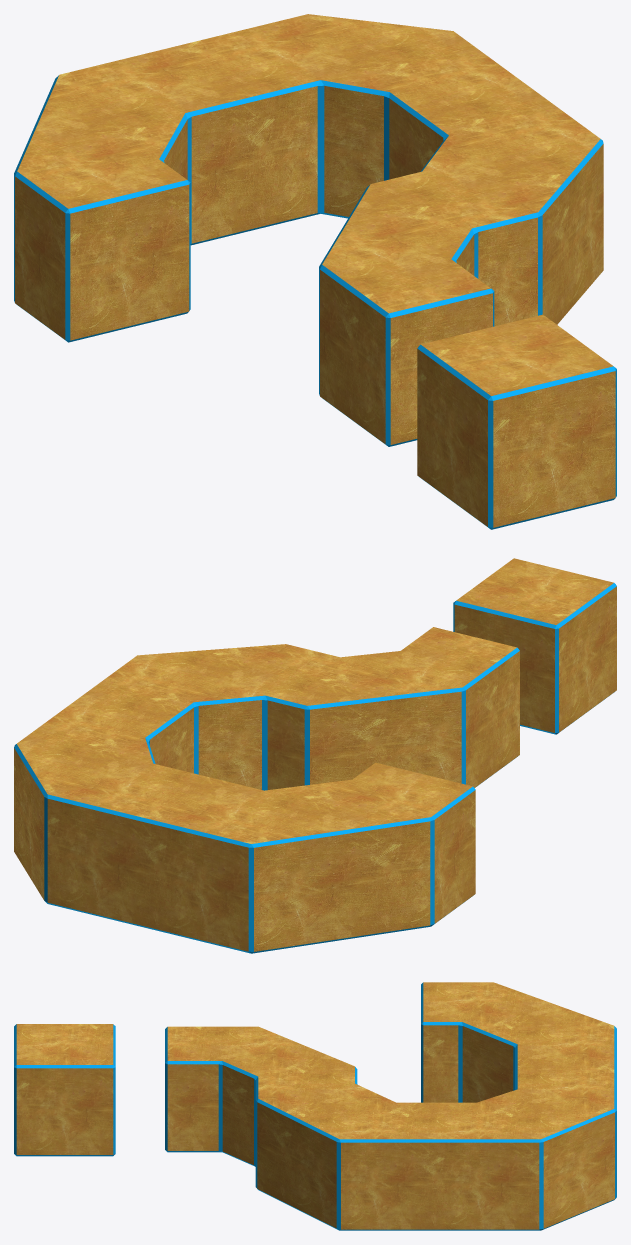
The model's file is Question_Mark.fbx.
3 renders of one model, top to bottom at view 1: azimuth 30°, elevation 25°; view 2: azimuth 150°, elevation 25°; view 3: azimuth 270°, elevation 25°, orthographic. The views are drawn at different scales.
Parts seen in each view (by area): view 1: questionmark; view 2: questionmark; view 3: questionmark.
Boxes of the visible parts, x1,y1,x2,y2 form: questionmark: [14, 14, 616, 529]; questionmark: [14, 558, 616, 953]; questionmark: [14, 982, 616, 1230].
Bounding box in the file's own units: 167 × 267 × 44.61.
2 materials, 1 textured.
